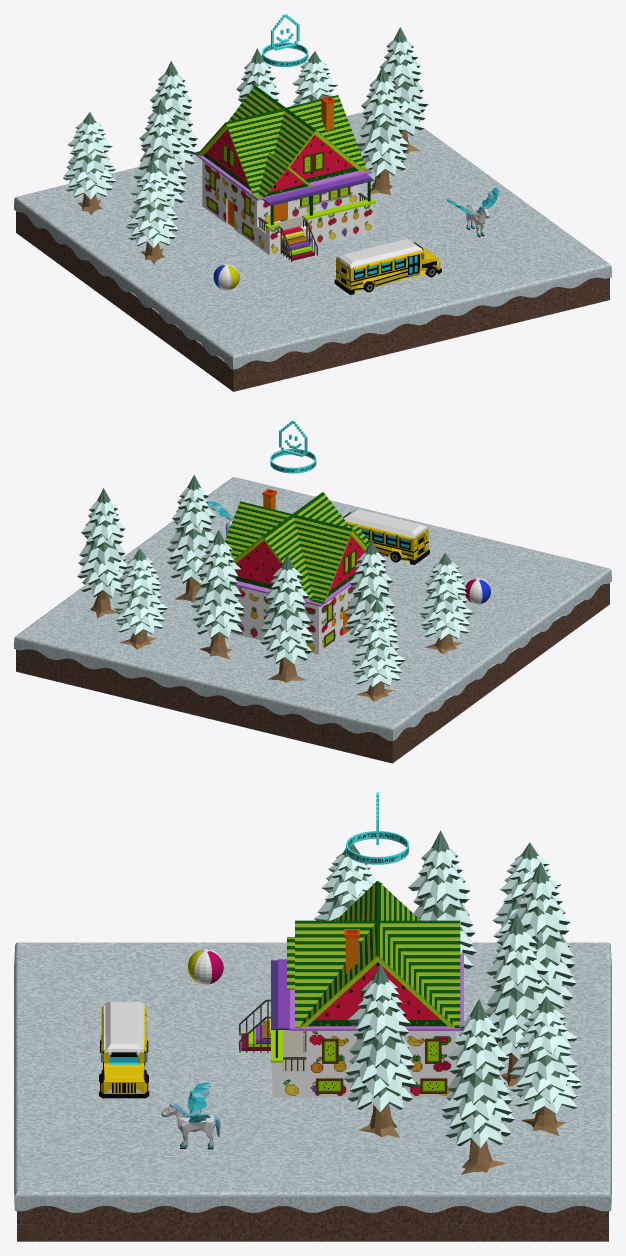
The picture shows the model from 3 angles, top to bottom: view 1: azimuth 30°, elevation 25°; view 2: azimuth 150°, elevation 25°; view 3: azimuth 270°, elevation 25°; orthographic projection. The views are drawn at different scales.
Visible parts, largest first — view 1: Cube.003, Cube.1063, VEHICLES_SCHOOL_BUS, TYPE_PREMIUM, ANIMAL_PEGASO, OBJRANDOM_BEACHBALL; view 2: Cube.003, Cube.1063, VEHICLES_SCHOOL_BUS, TYPE_PREMIUM, OBJRANDOM_BEACHBALL; view 3: Cube.003, Cube.1063, VEHICLES_SCHOOL_BUS, ANIMAL_PEGASO, TYPE_PREMIUM, OBJRANDOM_BEACHBALL.
Boxes of the visible parts, <box> form: Cube.003: <box>14,27,611,391</box>; Cube.1063: <box>194,85,376,261</box>; VEHICLES_SCHOOL_BUS: <box>334,239,441,294</box>; TYPE_PREMIUM: <box>262,14,308,66</box>; ANIMAL_PEGASO: <box>447,187,499,237</box>; OBJRANDOM_BEACHBALL: <box>213,263,239,290</box>; Cube.003: <box>14,475,611,763</box>; Cube.1063: <box>225,489,388,654</box>; VEHICLES_SCHOOL_BUS: <box>343,509,429,564</box>; TYPE_PREMIUM: <box>270,420,316,473</box>; OBJRANDOM_BEACHBALL: <box>464,578,490,604</box>; Cube.003: <box>14,830,611,1241</box>; Cube.1063: <box>239,881,463,1097</box>; VEHICLES_SCHOOL_BUS: <box>99,1002,149,1098</box>; ANIMAL_PEGASO: <box>161,1082,220,1149</box>; TYPE_PREMIUM: <box>346,792,408,864</box>; OBJRANDOM_BEACHBALL: <box>188,948,223,984</box>.
Size of the model in its own units: 4040 by 2440 by 4040.
Materials: 37 (6 with a texture image).
